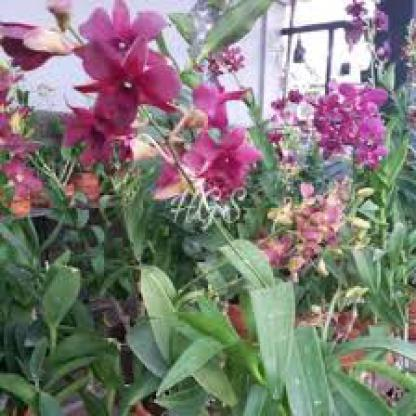ANGGREK: (16, 9, 387, 284)
